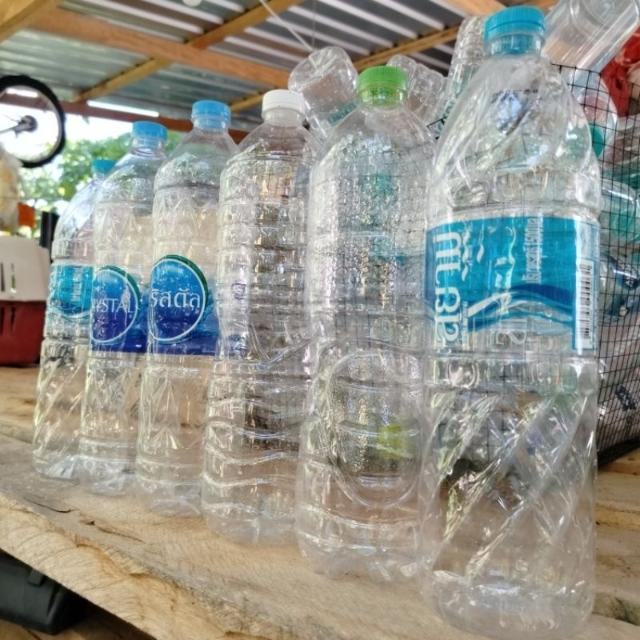PET Bottle: (421, 0, 621, 636), (303, 47, 438, 575), (207, 74, 327, 551), (132, 76, 252, 534), (78, 92, 181, 527), (32, 91, 116, 470)
